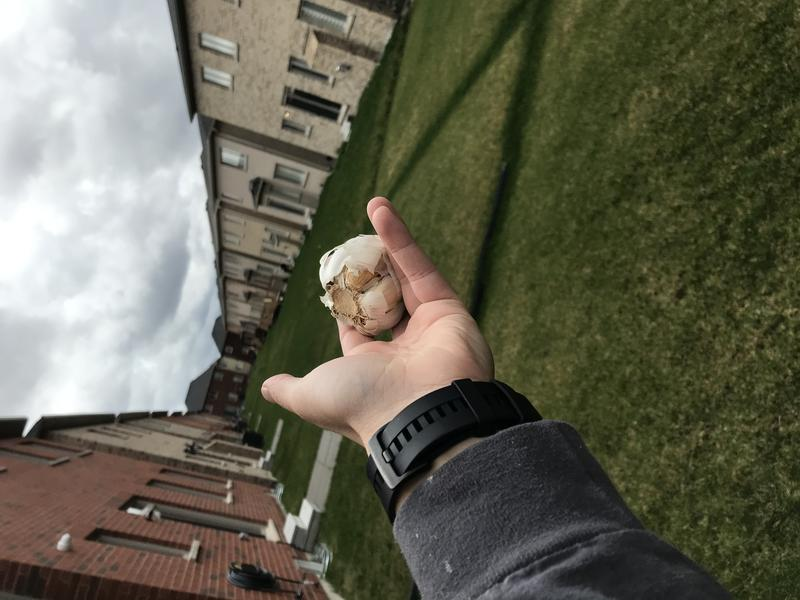garlic: (316, 228, 418, 342)
